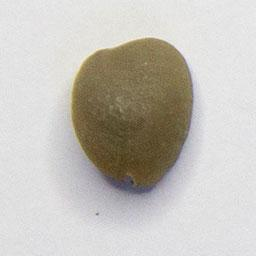premium: (68, 34, 196, 189)
